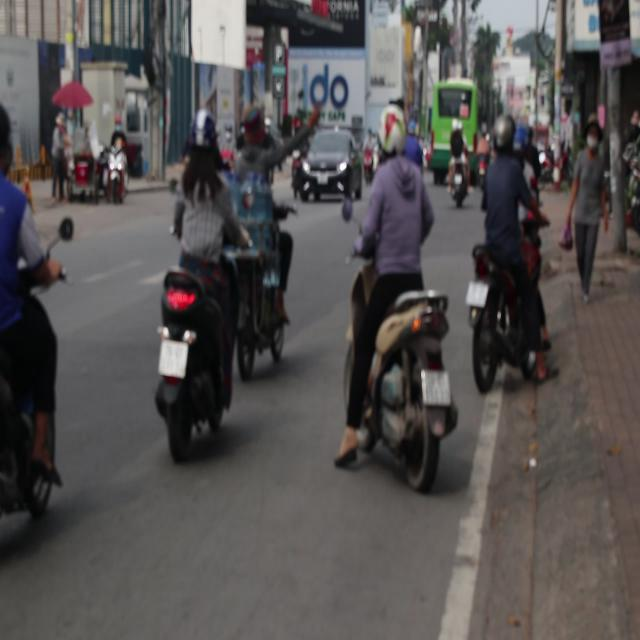bus: (429, 80, 478, 172)
car: (293, 131, 361, 201)
motorbike: (351, 284, 458, 491), (0, 265, 82, 520), (452, 266, 564, 409), (156, 266, 234, 463), (223, 233, 311, 370), (104, 129, 142, 195), (362, 132, 390, 184), (447, 164, 474, 213), (287, 122, 312, 173)
